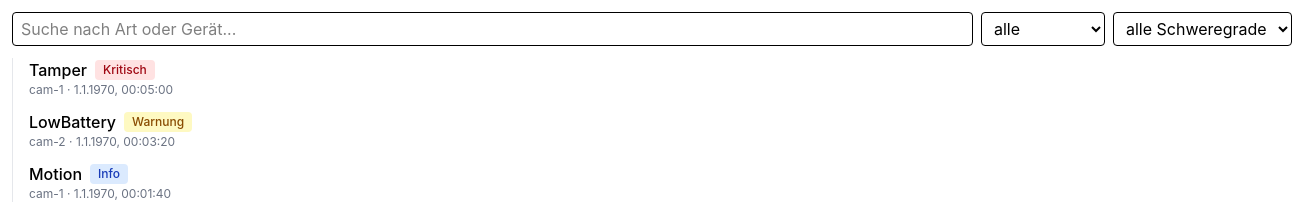
Test: EventHistory › shows an explicit message when nothing matches
Type "nonexistent-kind" into the field named "Ereignisse durchsuchen".
click(492, 29); type("nonexistent-kind")  # box [12,12,973,46]
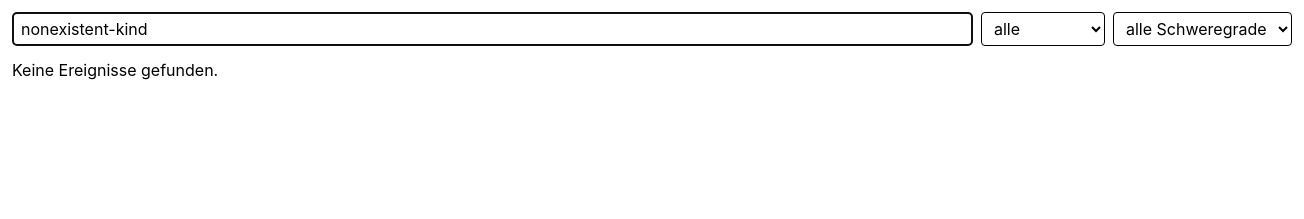
Expected: the message shows "Keine Ereignisse", [12,60,218,80]
